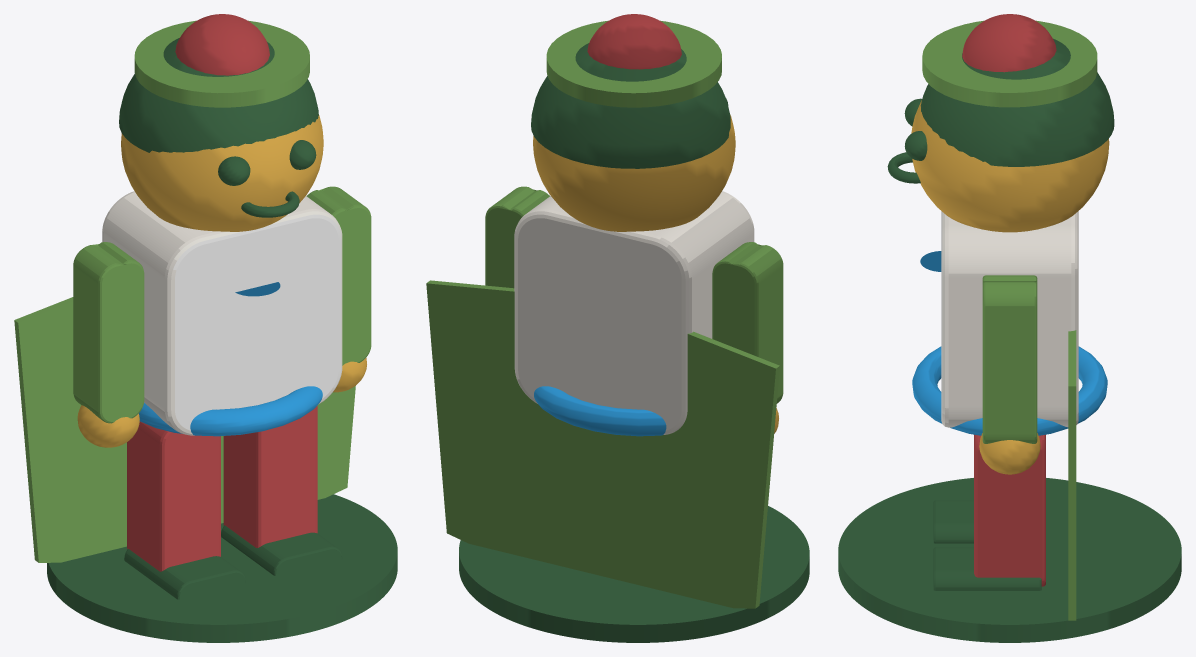
File: 1097_左传_郑庄公.glb
The picture shows the model from 3 angles, left to right: view 1: azimuth 30°, elevation 25°; view 2: azimuth 150°, elevation 25°; view 3: azimuth 270°, elevation 25°; orthographic projection.
Parts seen in each view (by area): view 1: card_1097; view 2: card_1097; view 3: card_1097.
Part boxes in pixels (x1,y1,x2,y2): card_1097: (14,14,397,642); card_1097: (426,14,809,642); card_1097: (838,14,1181,642).
Bounding box in the file's own units: 0.6503 × 1 × 0.5542.
